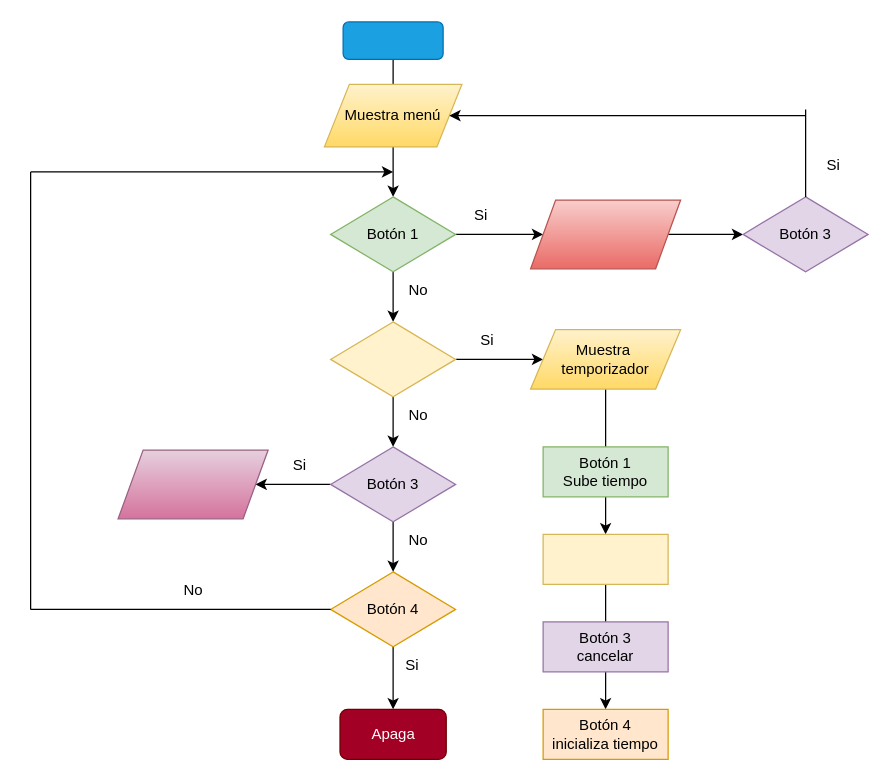
This 890x781 diagram has some shape labels left out. The shapes that lost their labels are listed below. From the top down, each one's centre as x and y in pixels, then its label:
At point 392,40: "Inicio".
At point 605,234: "Muestra gráfica de temperatura".
At point 392,359: "Botón 2".
At point 192,484: "Muestra menú productos".
At point 605,558: "Botón 2 reduce tiempo".
